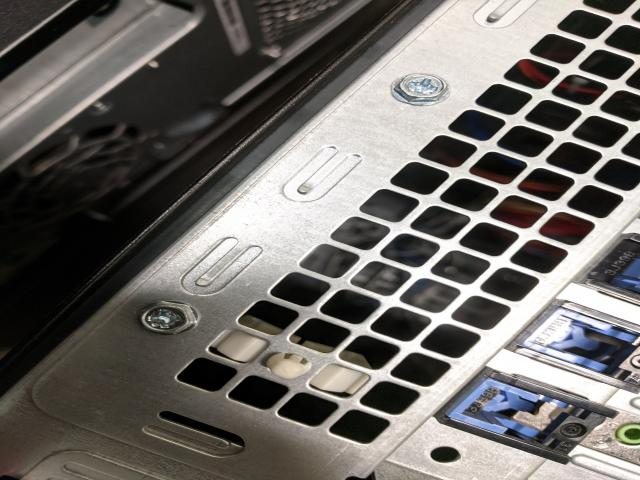CRS: (138, 301, 202, 338), (397, 74, 449, 103)
